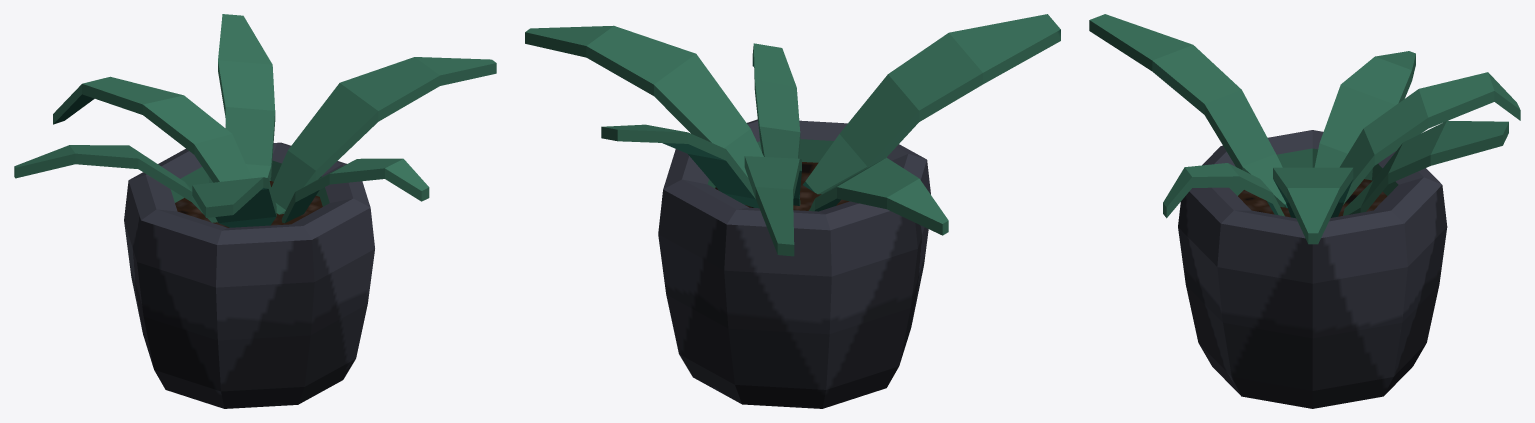
File: Potted Plant_V3.fbx
3 views of the same model, side by side, from view 1: azimuth 30°, elevation 25°; view 2: azimuth 150°, elevation 25°; view 3: azimuth 270°, elevation 25° (orthographic). The views are drawn at different scales.
Parts seen in each view (by area): view 1: Potted plant_V2; view 2: Potted plant_V2; view 3: Potted plant_V2.
Part boxes in pixels (x1=…): Potted plant_V2: x1=14, y1=14, x2=496, y2=408; Potted plant_V2: x1=525, y1=14, x2=1060, y2=408; Potted plant_V2: x1=1089, y1=14, x2=1520, y2=408.
Bounding box in the file's own units: 129 × 78.1 × 108.
